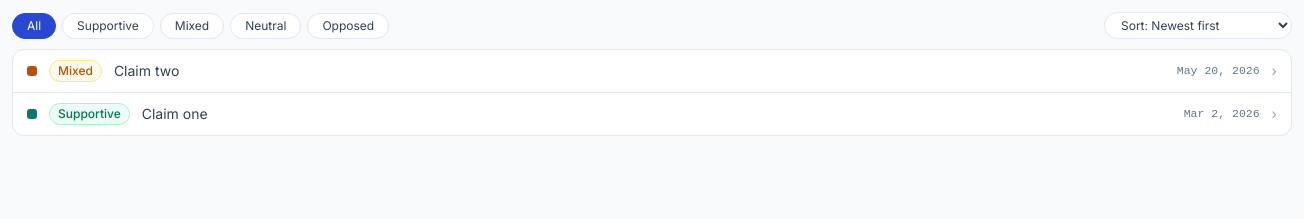
Test: EvidenceList › expands a row to reveal its verbatim quote, then collapses it
The width and height of the screenshot is (1304, 219).
Expected: the text "Supportive quote" is not shown
Click the button "Supportive Claim one Mar 2, 2026 ›" at (89, 114), box [13,93,1291,135]
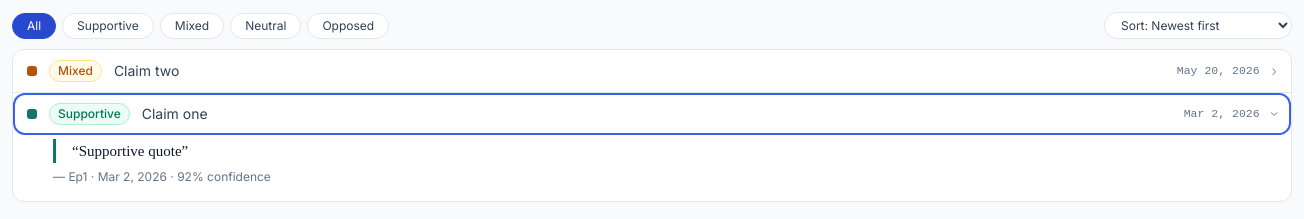
Now the text "“Supportive quote”" is shown, box [53,139,1251,163]
Click the button "Supportive Claim one Mar 2, 2026 ›" at (89, 114), box [13,93,1291,135]
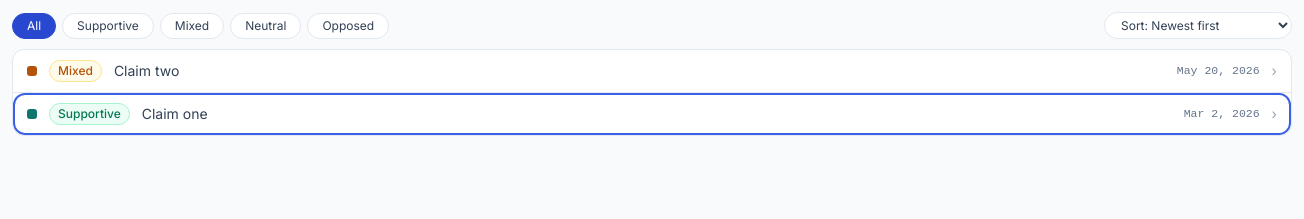
Now the text "“Supportive quote”" is gone
